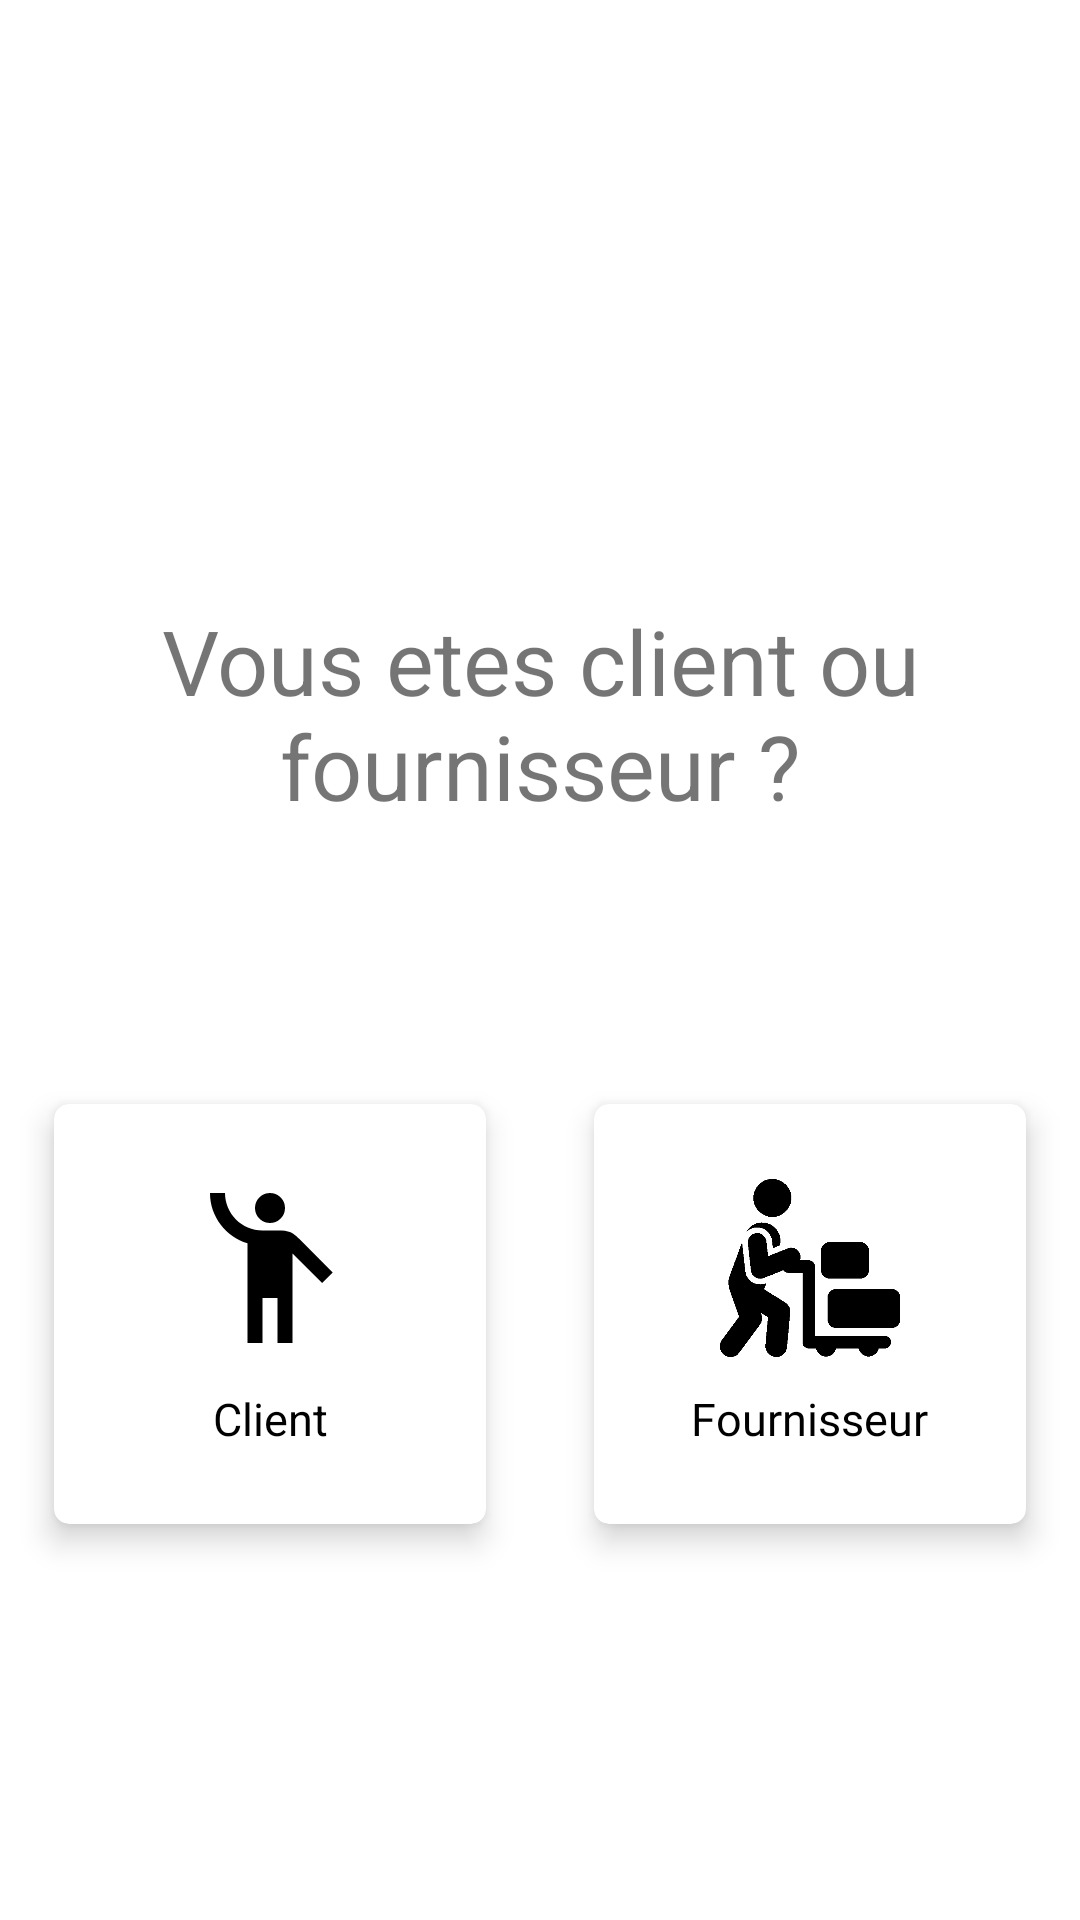

Named icons in this screenshot (1080 × 1920) and their centers, (x=x, y=y):
emoji people: (x=271, y=1268)
